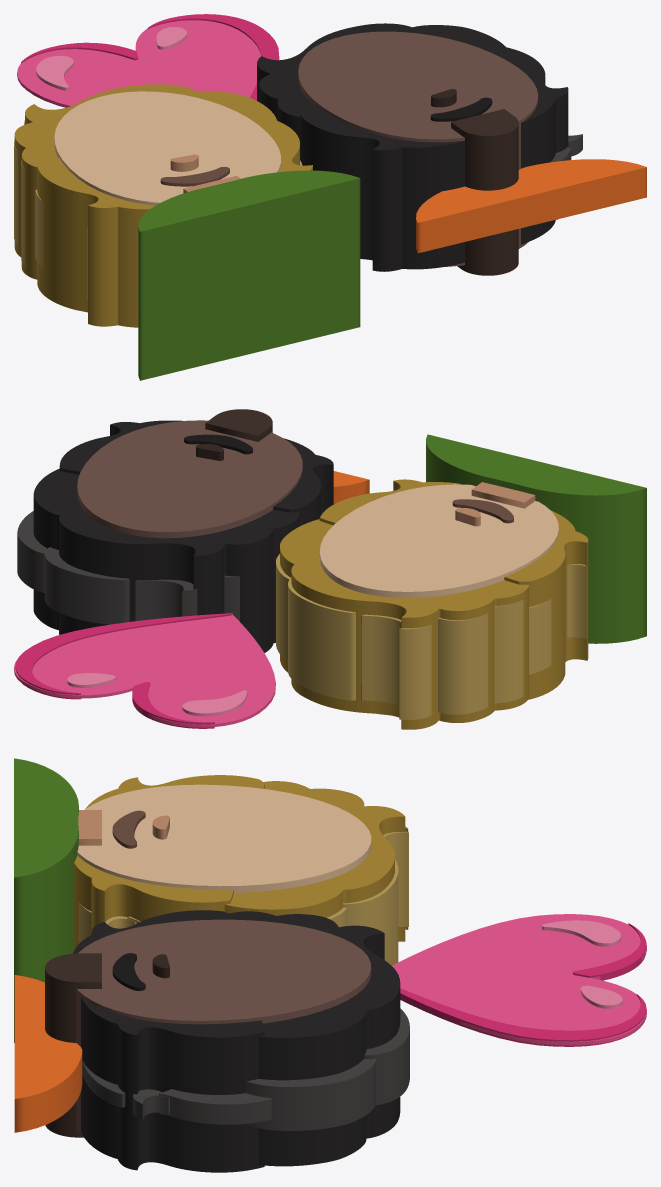
File: emoji_u1f9d1_1f3fc_200d_2764_200d_1f9d1_1f3ff.glb
3 views of the same model, one above another, from view 1: azimuth 30°, elevation 25°; view 2: azimuth 150°, elevation 25°; view 3: azimuth 270°, elevation 25° (orthographic). The views are drawn at different scales.
Parts seen in each view (by area): view 1: emoji_u1f9d1_1f3fc_200d_2764_200d_1f9d1_1f3ff; view 2: emoji_u1f9d1_1f3fc_200d_2764_200d_1f9d1_1f3ff; view 3: emoji_u1f9d1_1f3fc_200d_2764_200d_1f9d1_1f3ff.
Boxes of the visible parts, x1=… form: emoji_u1f9d1_1f3fc_200d_2764_200d_1f9d1_1f3ff: x1=14, y1=14, x2=646, y2=380; emoji_u1f9d1_1f3fc_200d_2764_200d_1f9d1_1f3ff: x1=14, y1=409, x2=646, y2=729; emoji_u1f9d1_1f3fc_200d_2764_200d_1f9d1_1f3ff: x1=14, y1=758, x2=646, y2=1172.
Bounding box in the file's own units: 0.035 × 0.0098 × 0.034.
